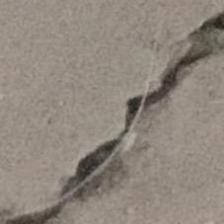Crack: (51, 10, 224, 224)
